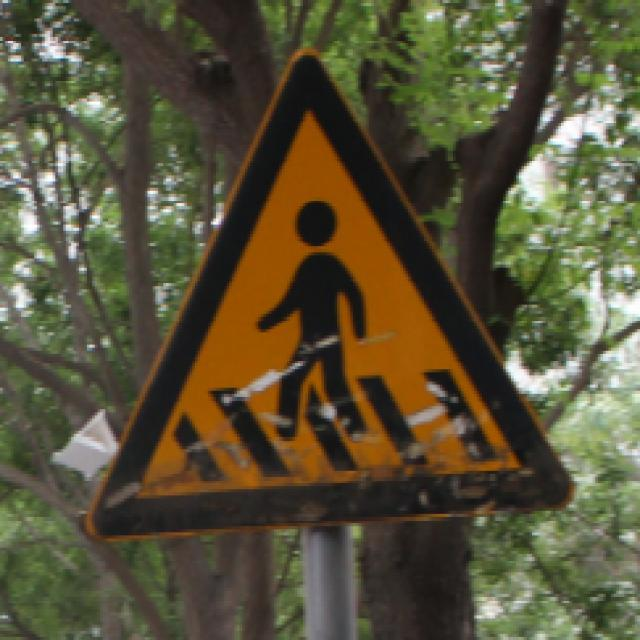Crossing: (69, 36, 596, 548)
